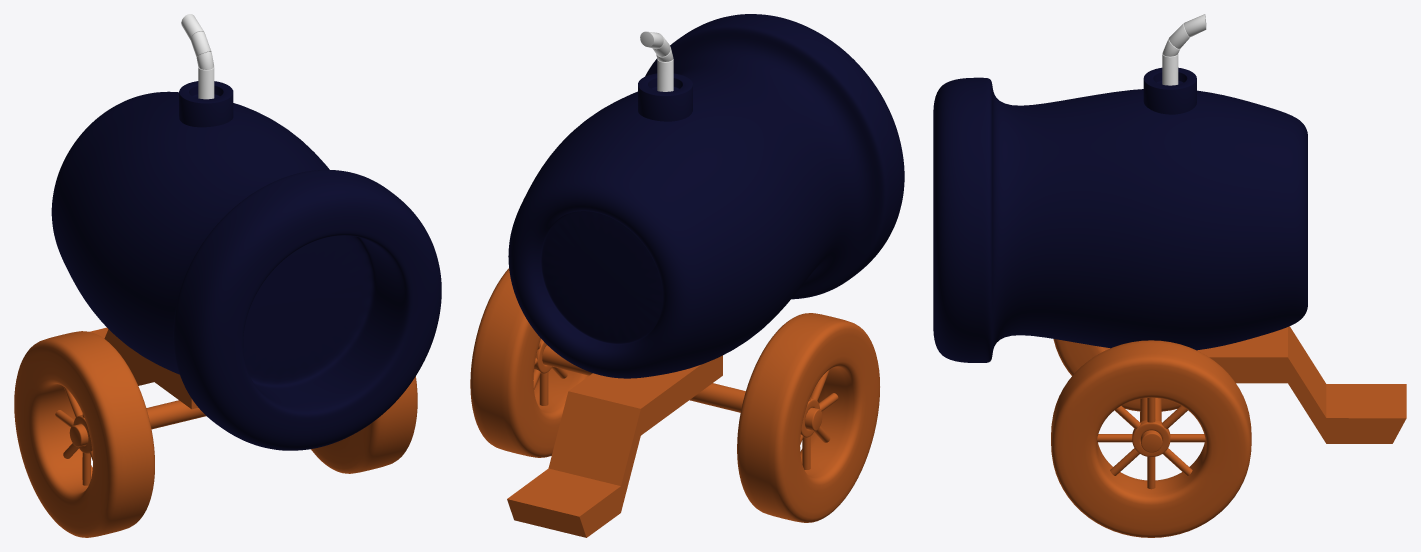
Rendered from Cannon.fbx.
The picture shows the model from 3 angles, left to right: view 1: azimuth 30°, elevation 25°; view 2: azimuth 150°, elevation 25°; view 3: azimuth 270°, elevation 25°; orthographic projection. The views are drawn at different scales.
Visible parts, largest first — view 1: Cylinder, Cylinder.002, Cylinder.001, Cube, Cylinder.004, Cylinder.005; view 2: Cylinder, Cylinder.002, Cube, Cylinder.001, Cylinder.004, Cylinder.005, Cylinder.003; view 3: Cylinder, Cylinder.002, Cube, Cylinder.001, Cylinder.005, Cylinder.003, Cylinder.004.
Boxes of the visible parts, x1=… form: Cylinder: x1=51, y1=91, x2=441, y2=450; Cylinder.002: x1=14, y1=331, x2=417, y2=537; Cylinder.001: x1=179, y1=14, x2=233, y2=127; Cube: x1=89, y1=327, x2=198, y2=409; Cylinder.004: x1=69, y1=400, x2=206, y2=446; Cylinder.005: x1=55, y1=387, x2=92, y2=485; Cylinder: x1=508, y1=14, x2=904, y2=378; Cylinder.002: x1=470, y1=268, x2=879, y2=522; Cube: x1=507, y1=355, x2=722, y2=537; Cylinder.001: x1=638, y1=31, x2=692, y2=121; Cylinder.004: x1=542, y1=345, x2=822, y2=430; Cylinder.005: x1=533, y1=343, x2=838, y2=469; Cylinder.003: x1=534, y1=339, x2=820, y2=437; Cylinder: x1=933, y1=77, x2=1307, y2=362; Cylinder.002: x1=1051, y1=339, x2=1251, y2=537; Cube: x1=1197, y1=326, x2=1406, y2=443; Cylinder.001: x1=1143, y1=14, x2=1206, y2=114; Cylinder.005: x1=1097, y1=397, x2=1205, y2=489; Cylinder.003: x1=1132, y1=419, x2=1170, y2=456; Cylinder.004: x1=1140, y1=398, x2=1162, y2=452.
Bounding box in the file's own units: 345 × 494 × 468.
